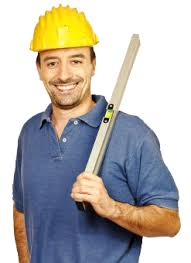Person_wearing_helmet: (27, 1, 95, 71)
